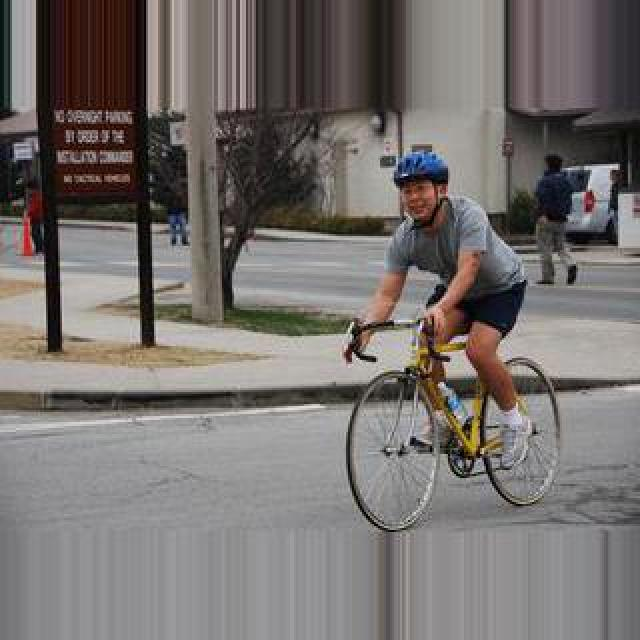MC-Bike: (344, 148, 536, 476), (532, 152, 580, 288)
Person: (346, 314, 564, 526)
